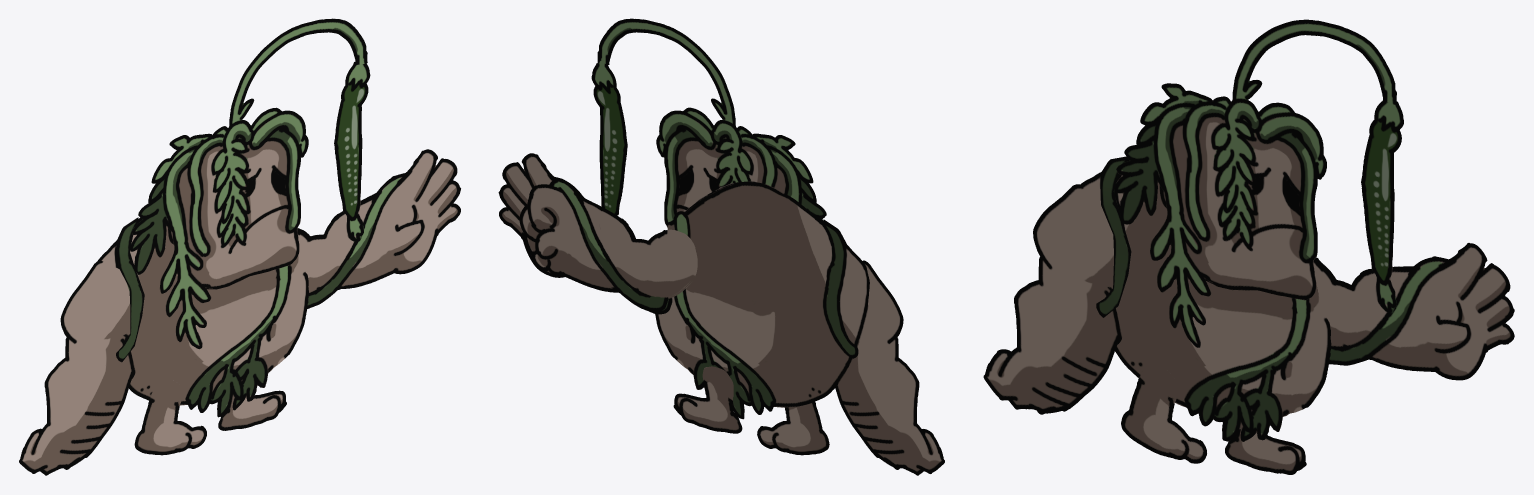
File: MutantMenX.FBX
3 views of the same model, side by side, from view 1: azimuth 30°, elevation 25°; view 2: azimuth 150°, elevation 25°; view 3: azimuth 330°, elevation 25° (orthographic). The views are drawn at different scales.
Visible parts, largest first — view 1: MutantMen; view 2: MutantMen; view 3: MutantMen.
Part boxes in pixels (bbox=[...]): MutantMen: bbox=[19, 18, 460, 475]; MutantMen: bbox=[498, 18, 944, 475]; MutantMen: bbox=[983, 19, 1514, 474].
Bounding box in the file's own units: 176 × 152 × 2.6.
